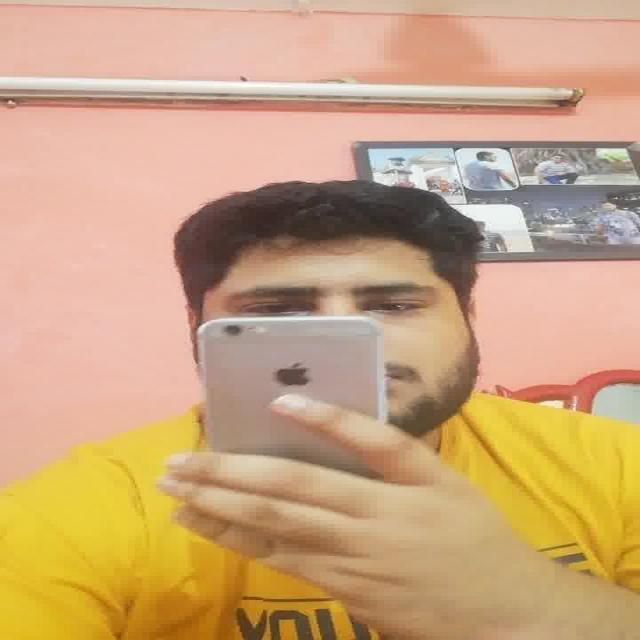Phone: (196, 317, 388, 455)
